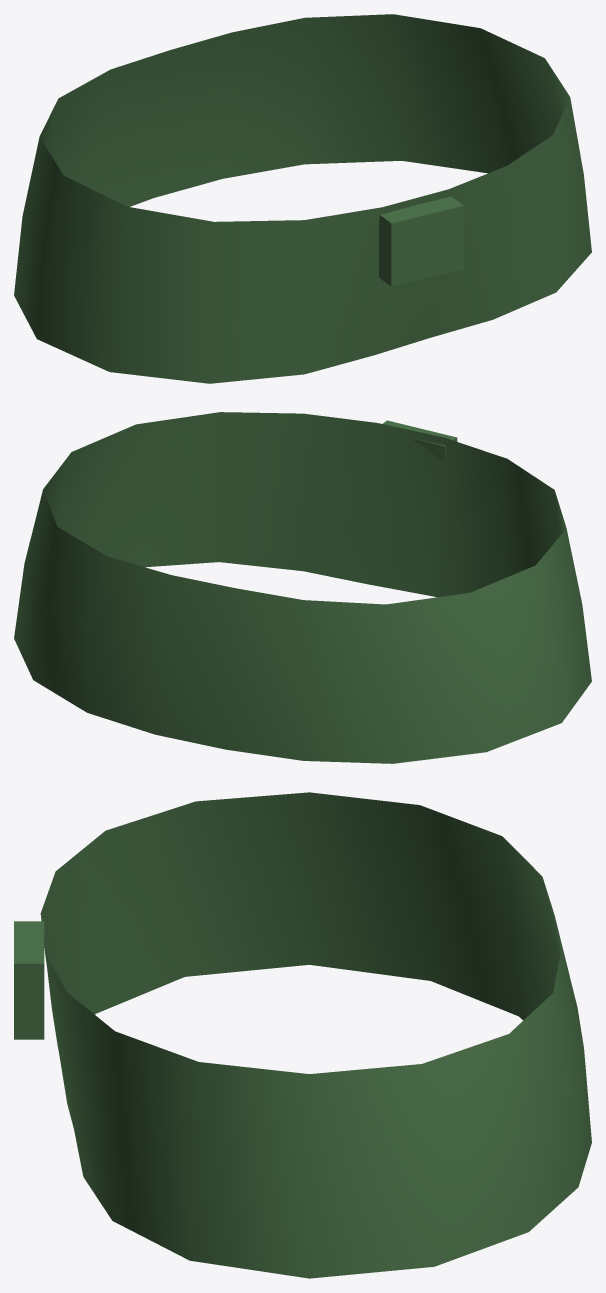
Rendered from tungsten_armor_belt.glb.
3 renders of one model, top to bottom at view 1: azimuth 30°, elevation 25°; view 2: azimuth 150°, elevation 25°; view 3: azimuth 270°, elevation 25°, orthographic. The views are drawn at different scales.
Visible parts, largest first — view 1: tungsten_armor_belt; view 2: tungsten_armor_belt; view 3: tungsten_armor_belt.
Part boxes in pixels (x1,y1,x2,y2): tungsten_armor_belt: [14, 14, 591, 383]; tungsten_armor_belt: [14, 412, 591, 763]; tungsten_armor_belt: [14, 792, 591, 1278].
Bounding box in the file's own units: 0.4427 × 0.1238 × 0.3446.
